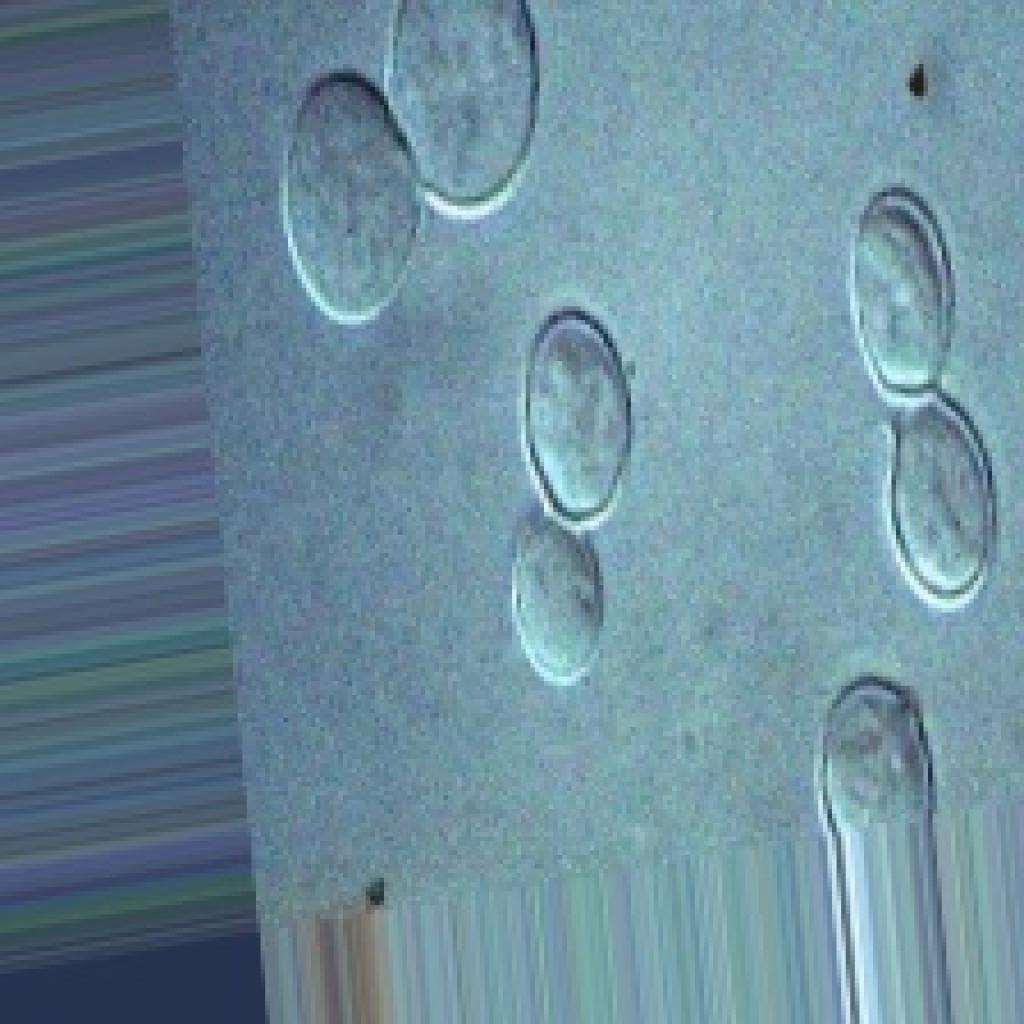Sphericalbacteria: (434, 292, 752, 712), (803, 159, 1024, 613), (250, 0, 546, 332)
